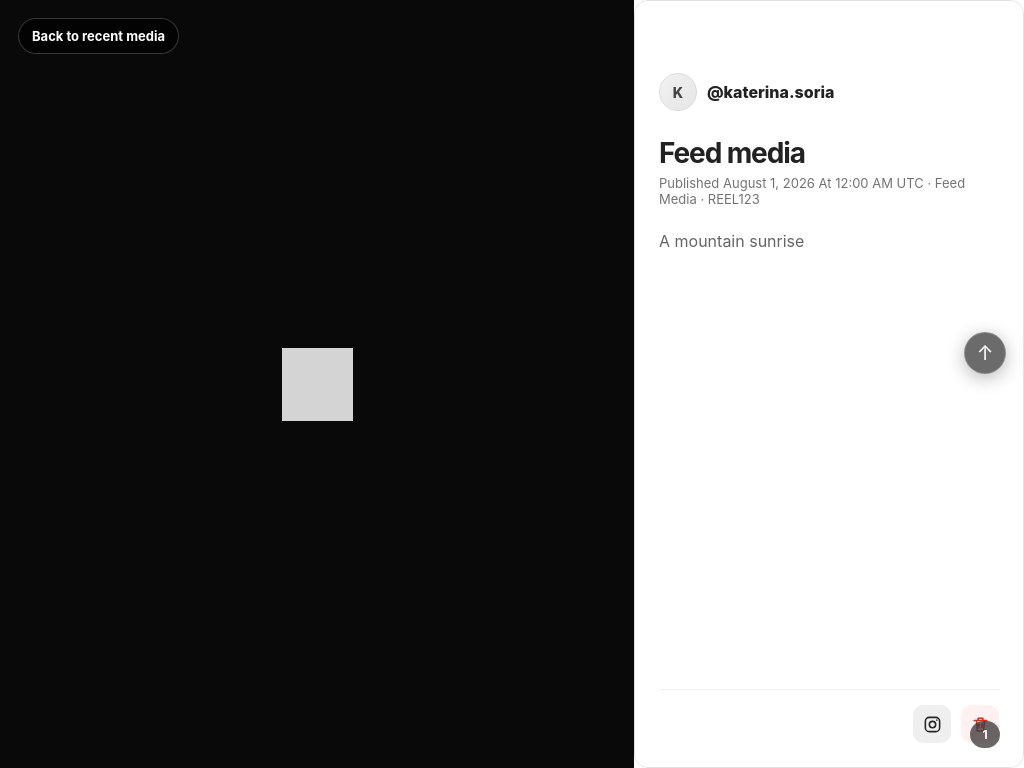
Scenario: MediaViewerPage › advances upward after prepending a boundary page without restoring the old position
Step 1. Click the button named "Previous media" → (985,353), box [964,332,1006,374]
(page scrolled)
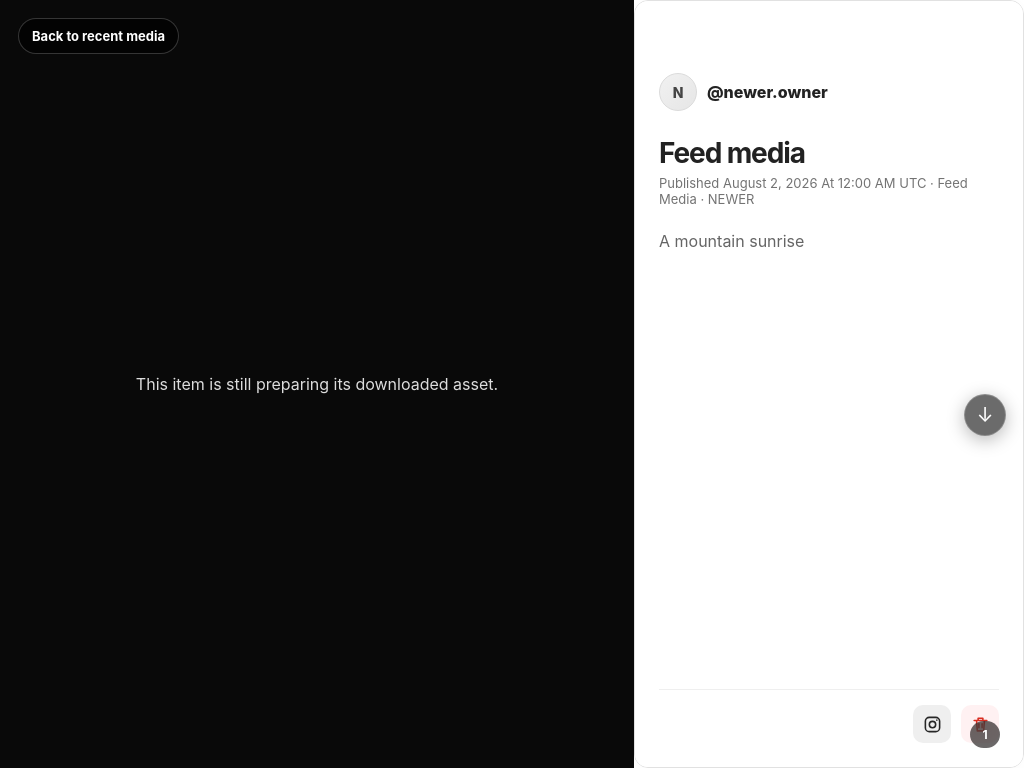
Check: the element named "Feed media NEWER" is shown
